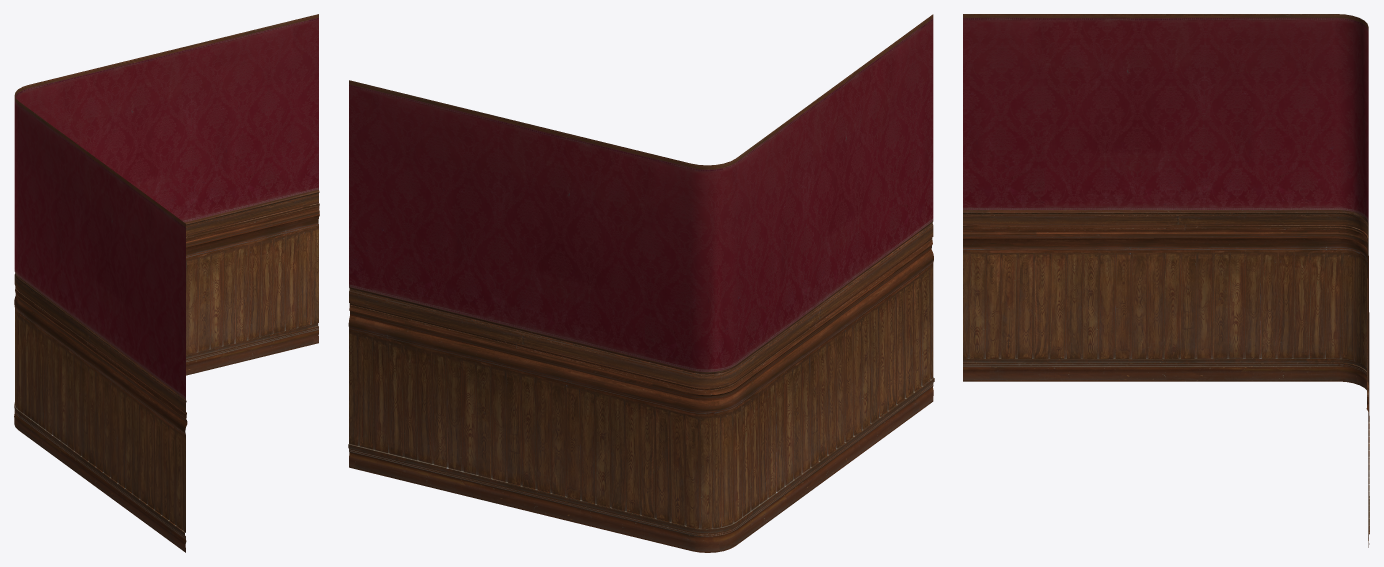
File: Wall_CornerInside.fbx
3 views of the same model, side by side, from view 1: azimuth 30°, elevation 25°; view 2: azimuth 150°, elevation 25°; view 3: azimuth 270°, elevation 25° (orthographic). The views are drawn at different scales.
Parts seen in each view (by area): view 1: Wall_CornerInside; view 2: Wall_CornerInside; view 3: Wall_CornerInside.
Part boxes in pixels (left/top/right/bottom): Wall_CornerInside: left=14, top=14, right=319, bottom=552; Wall_CornerInside: left=348, top=14, right=934, bottom=552; Wall_CornerInside: left=963, top=14, right=1369, bottom=547.
Bounding box in the file's own units: 201 × 200 × 201.
